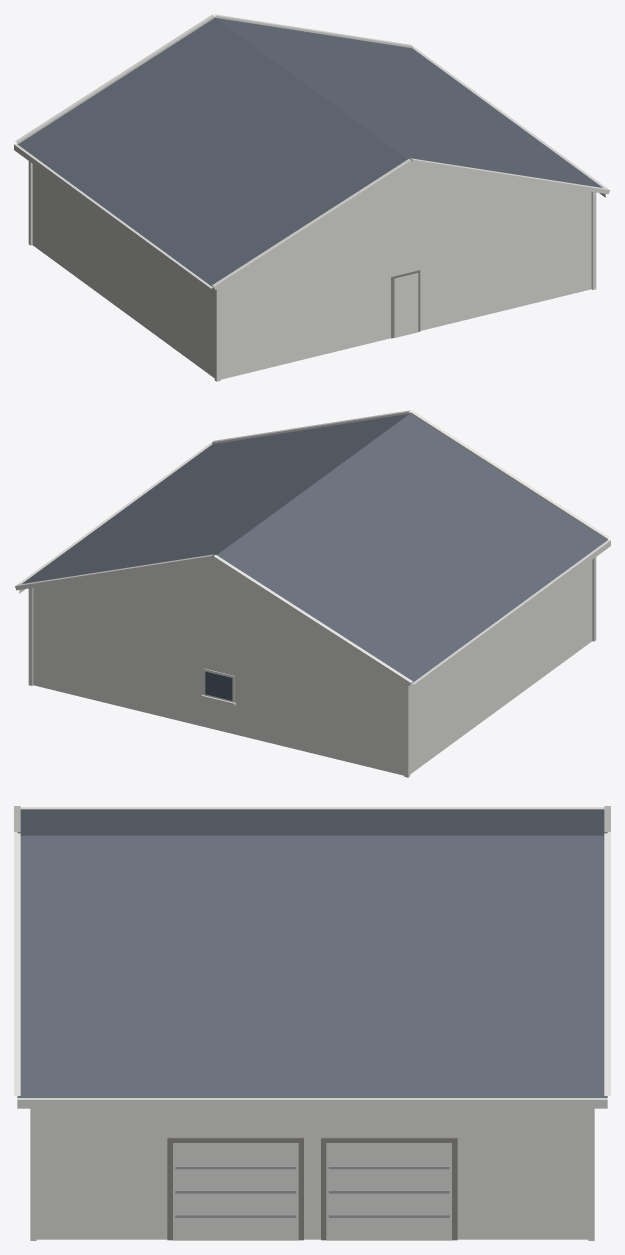
The model's file is h28_port_cbsa_shed1.gltf.
3 views of the same model, one above another, from view 1: azimuth 30°, elevation 25°; view 2: azimuth 150°, elevation 25°; view 3: azimuth 270°, elevation 25° (orthographic). The views are drawn at different scales.
Parts seen in each view (by area): view 1: h28_port_cbsa_shed1; view 2: h28_port_cbsa_shed1; view 3: h28_port_cbsa_shed1.
Boxes of the visible parts, box(x1,y1,x2,y2) form: h28_port_cbsa_shed1: box(14, 14, 610, 381); h28_port_cbsa_shed1: box(14, 410, 610, 777); h28_port_cbsa_shed1: box(14, 806, 610, 1240).
Size of the model in its own units: 14.9 by 6.39 by 12.84.
